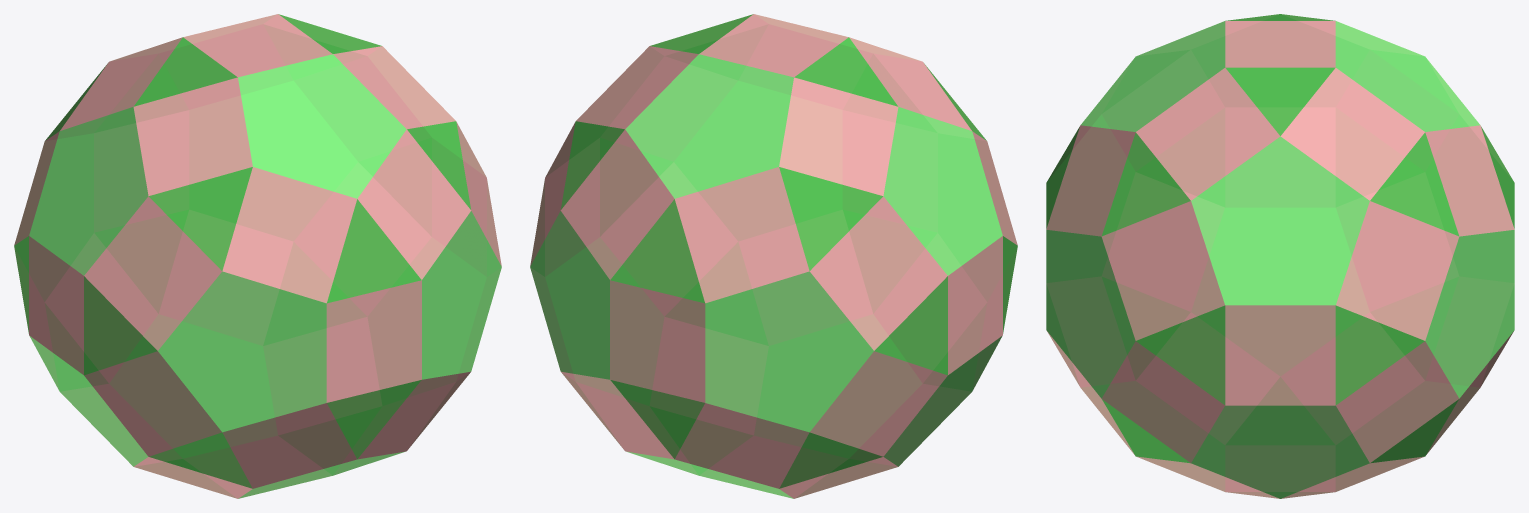
The model's file is Rhombicosidodecahedron.obj.
3 renders of one model, left to right at view 1: azimuth 30°, elevation 25°; view 2: azimuth 150°, elevation 25°; view 3: azimuth 270°, elevation 25°, orthographic.
Bounding box in the file's own units: 4.24 × 4.24 × 4.24.
